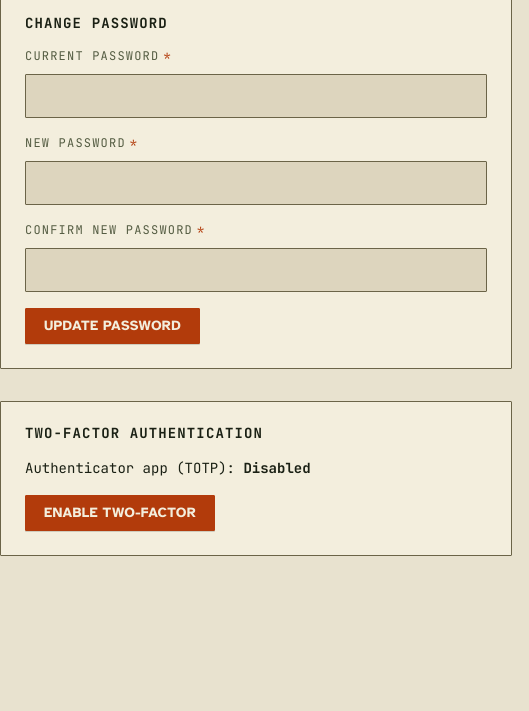
Test case: SecurityForm › runs the enable flow: setUpTOTP then verifyTOTPSetup + updateMFAPreference
Click the button "Enable two-factor" at (120, 513), box top-left (25, 495), bottom-right (215, 531)
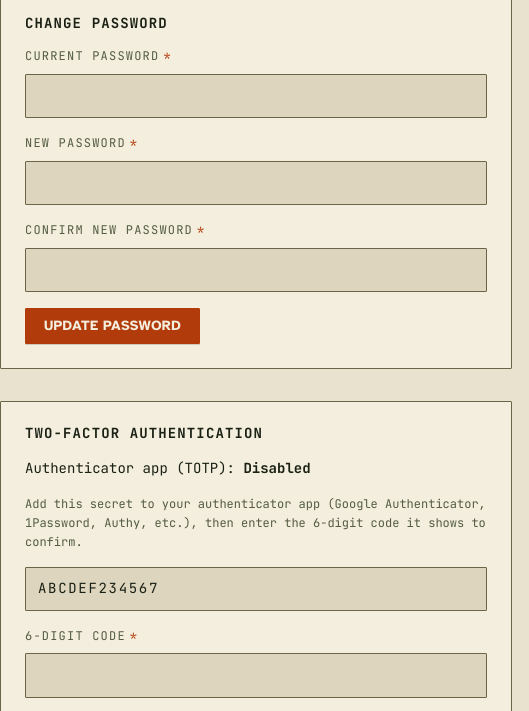
Expected: the text "ABCDEF234567" is shown, top-left (25, 567), bottom-right (487, 611)
Type "123456" into the field labelled "6-digit code*" at (256, 676), box top-left (25, 654), bottom-right (487, 698)
(page scrolled)
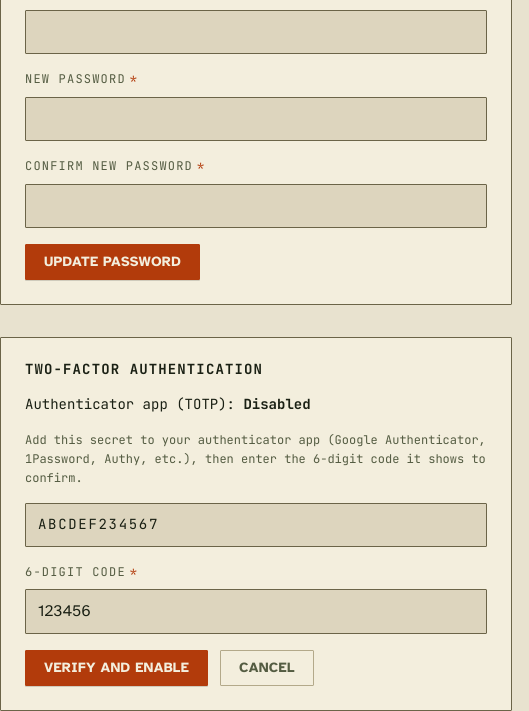
Click the button "Verify and enable" at (117, 668), box top-left (25, 650), bottom-right (208, 686)
(page scrolled)
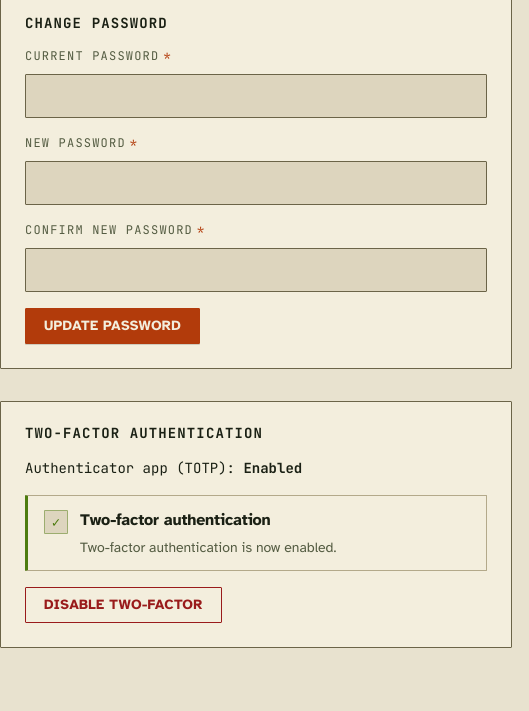
Expected: the text "Two-factor authentication is now enabled." is shown, top-left (80, 539), bottom-right (336, 556)
